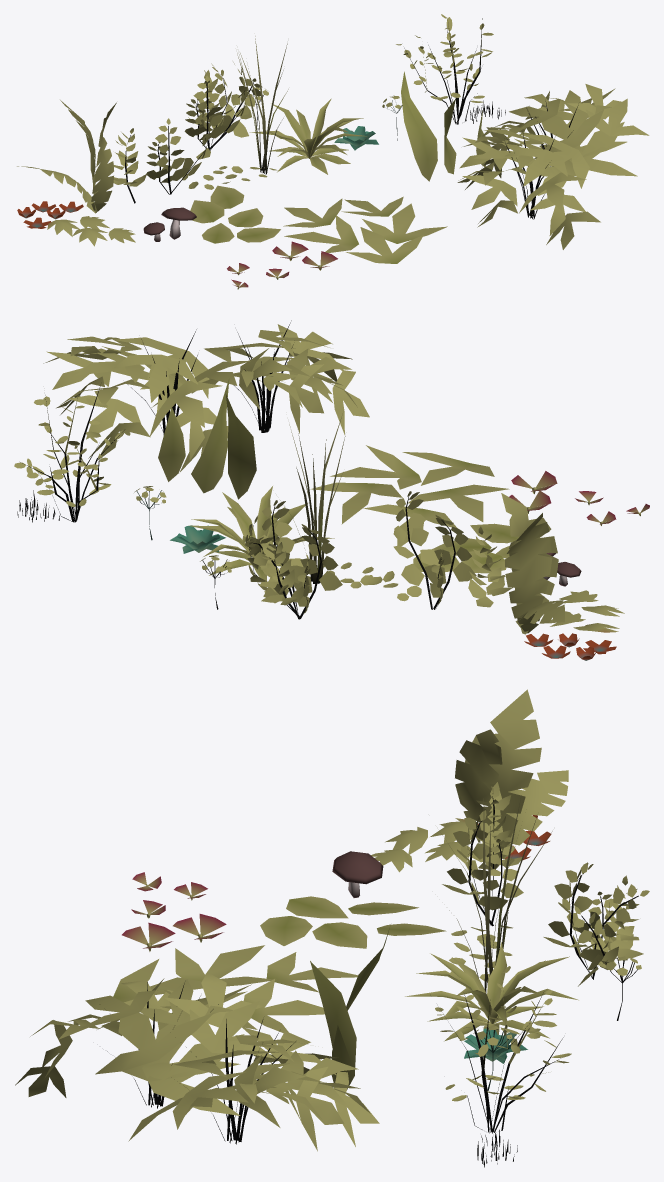
The model's file is Plants.glb.
3 renders of one model, top to bottom at view 1: azimuth 30°, elevation 25°; view 2: azimuth 150°, elevation 25°; view 3: azimuth 270°, elevation 25°, orthographic. The views are drawn at different scales.
Visible parts, largest first — view 1: Two busshes, Spread leaves, Bushy bush, Big leaves, Normal clumpy bush, Gig leaves, Plant something, Bush, itsy bitsy bush, Maple leaves, Tall grass, Red flowers (+5 smaller); view 2: Two busshes, Spread leaves, Plant something, Bushy bush, Gig leaves, itsy bitsy bush, Bush, Normal clumpy bush, Big leaves, Tall grass, Plant another thing, Red flowers (+4 smaller); view 3: Two busshes, Plant something, Spread leaves, Bushy bush, Normal clumpy bush, Big leaves, Bush, itsy bitsy bush, Gig leaves, Red flowers, Maple leaves, Tall grass (+3 smaller).
Part boxes in pixels (bbox=[...]): Two busshes: bbox=[457, 84, 649, 249]; Spread leaves: bbox=[283, 196, 447, 263]; Bushy bush: bbox=[184, 62, 262, 150]; Big leaves: bbox=[190, 185, 280, 243]; Normal clumpy bush: bbox=[249, 98, 366, 174]; Gig leaves: bbox=[401, 71, 490, 181]; Plant something: bbox=[17, 100, 116, 213]; Bush: bbox=[396, 14, 493, 124]; itsy bitsy bush: bbox=[146, 104, 210, 194]; Maple leaves: bbox=[47, 216, 135, 246]; Tall grass: bbox=[237, 36, 288, 174]; Red flowers: bbox=[227, 241, 337, 289]; Two busshes: bbox=[43, 320, 369, 471]; Spread leaves: bbox=[310, 445, 509, 546]; Plant something: bbox=[501, 493, 566, 634]; Bushy bush: bbox=[245, 500, 342, 619]; Gig leaves: bbox=[158, 378, 256, 499]; itsy bitsy bush: bbox=[393, 491, 476, 609]; Bush: bbox=[14, 386, 130, 522]; Normal clumpy bush: bbox=[189, 486, 334, 580]; Big leaves: bbox=[413, 523, 519, 573]; Tall grass: bbox=[280, 413, 345, 583]; Plant another thing: bbox=[468, 526, 512, 607]; Red flowers: bbox=[509, 471, 649, 525]; Two busshes: bbox=[15, 972, 379, 1151]; Plant something: bbox=[455, 689, 568, 870]; Spread leaves: bbox=[113, 945, 357, 1032]; Bushy bush: bbox=[543, 862, 649, 986]; Normal clumpy bush: bbox=[405, 942, 578, 1041]; Big leaves: bbox=[260, 896, 446, 948]; Bush: bbox=[435, 966, 571, 1133]; itsy bitsy bush: bbox=[442, 810, 523, 926]; Gig leaves: bbox=[310, 928, 389, 1089]; Red flowers: bbox=[122, 872, 226, 951]; Maple leaves: bbox=[371, 818, 473, 872]; Tall grass: bbox=[442, 795, 552, 992].
Bounding box in the file's own units: 15.49 × 3.71 × 10.89.
